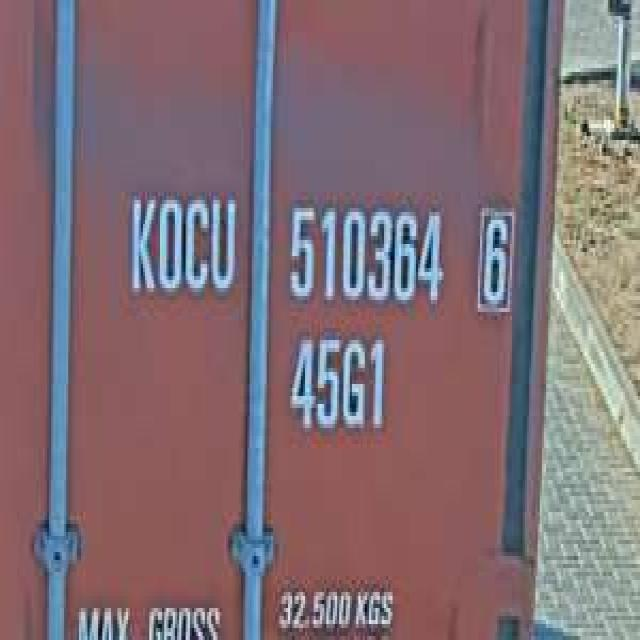dv: (472, 192, 516, 316)
owner: (124, 180, 239, 304)
serial: (280, 192, 450, 316)
size: (282, 324, 391, 444)
